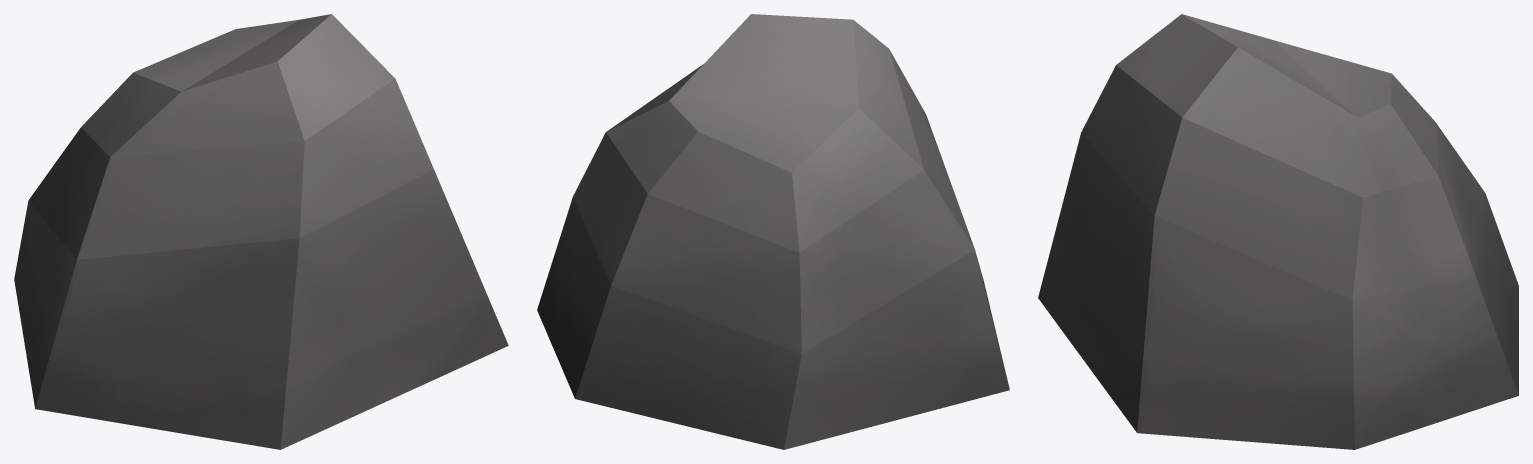
The model's file is RockC.fbx.
3 renders of one model, left to right at view 1: azimuth 30°, elevation 25°; view 2: azimuth 150°, elevation 25°; view 3: azimuth 270°, elevation 25°, orthographic. The views are drawn at different scales.
Parts seen in each view (by area): view 1: Rocota; view 2: Rocota; view 3: Rocota.
Boxes of the visible parts, <box> form: Rocota: <box>14,14,508,449</box>; Rocota: <box>537,14,1009,449</box>; Rocota: <box>1038,14,1518,449</box>.
Bounding box in the file's own units: 0.7595 × 0.5203 × 0.6881.
